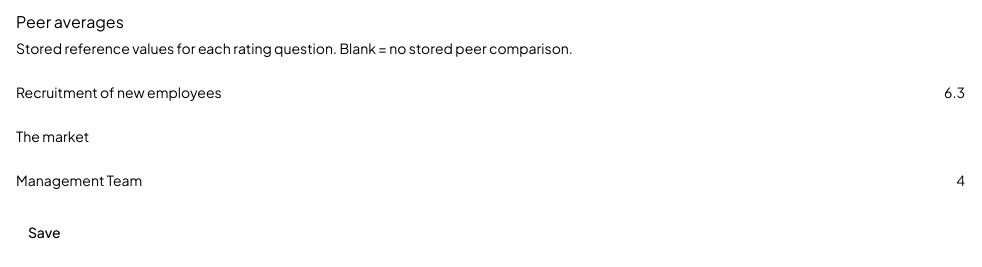
PeerBenchmarksPanel › network failure shows a generic error
Click the button with test id "peer-benchmarks-save".
click(44, 232)  # box [16, 214, 73, 250]
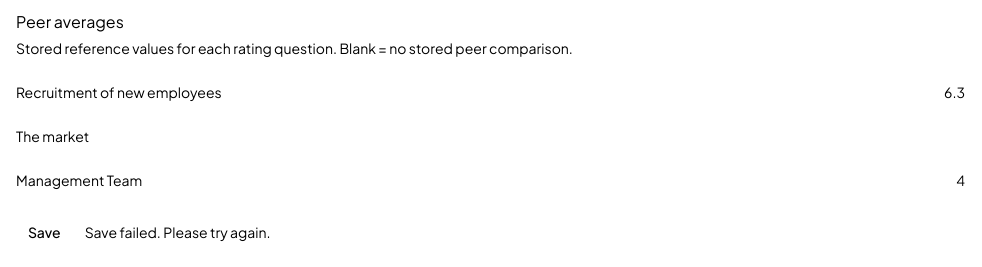
Result: the message with test id "peer-benchmarks-status" shows "failed" at [85, 223, 271, 241]
